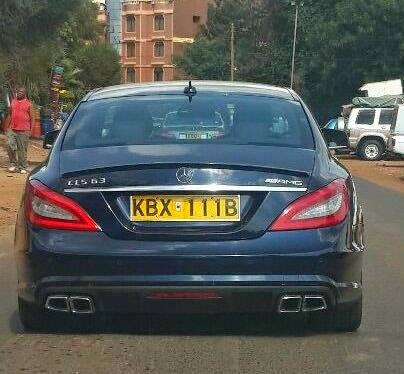licencePlate: (130, 195, 242, 220)
